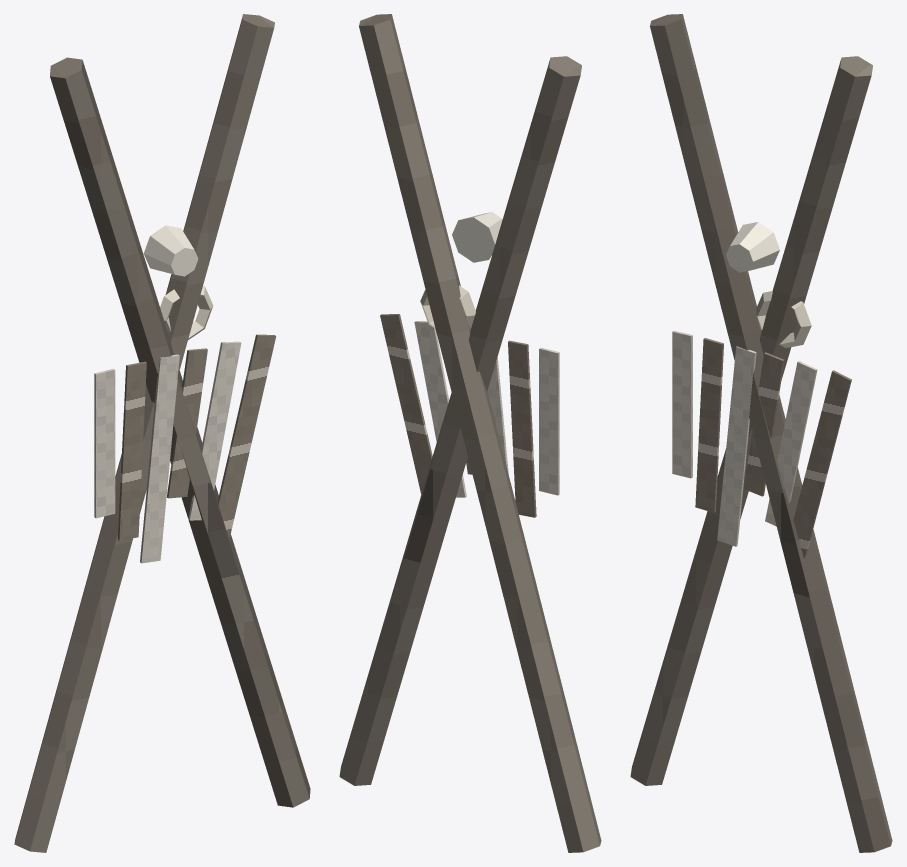
Rendered from sacred_poles.obj.
The picture shows the model from 3 angles, left to right: view 1: azimuth 30°, elevation 25°; view 2: azimuth 150°, elevation 25°; view 3: azimuth 330°, elevation 25°; orthographic projection.
Parts seen in each view (by area): view 1: sacred_poles; view 2: sacred_poles; view 3: sacred_poles.
Part boxes in pixels (left/top/right/bottom): sacred_poles: left=14, top=14, right=310, bottom=852; sacred_poles: left=339, top=14, right=601, bottom=852; sacred_poles: left=630, top=14, right=892, bottom=852.
Bounding box in the file's own units: 1.01 × 2.73 × 0.2436.
